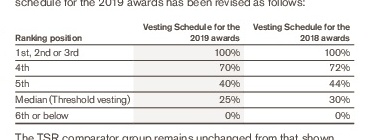table: (0, 0, 373, 140)
